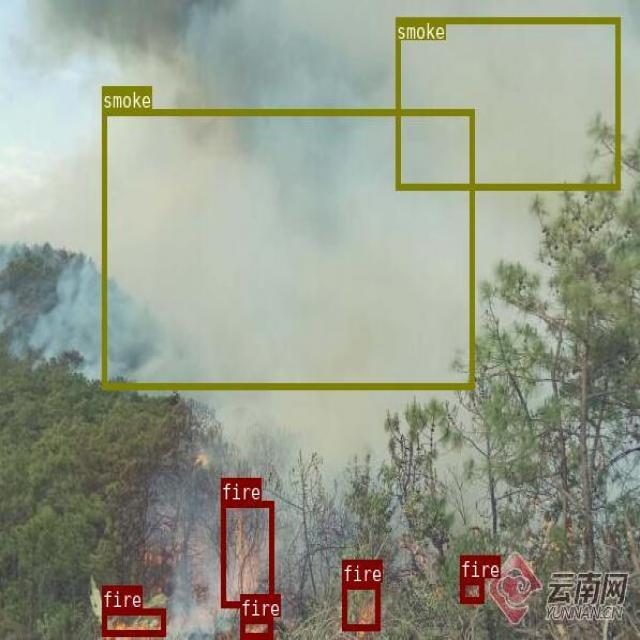fire: (220, 500, 272, 606), (102, 608, 165, 636), (342, 582, 379, 629), (240, 616, 271, 637), (459, 578, 483, 602)
smoke: (101, 108, 474, 388), (396, 17, 619, 189)
